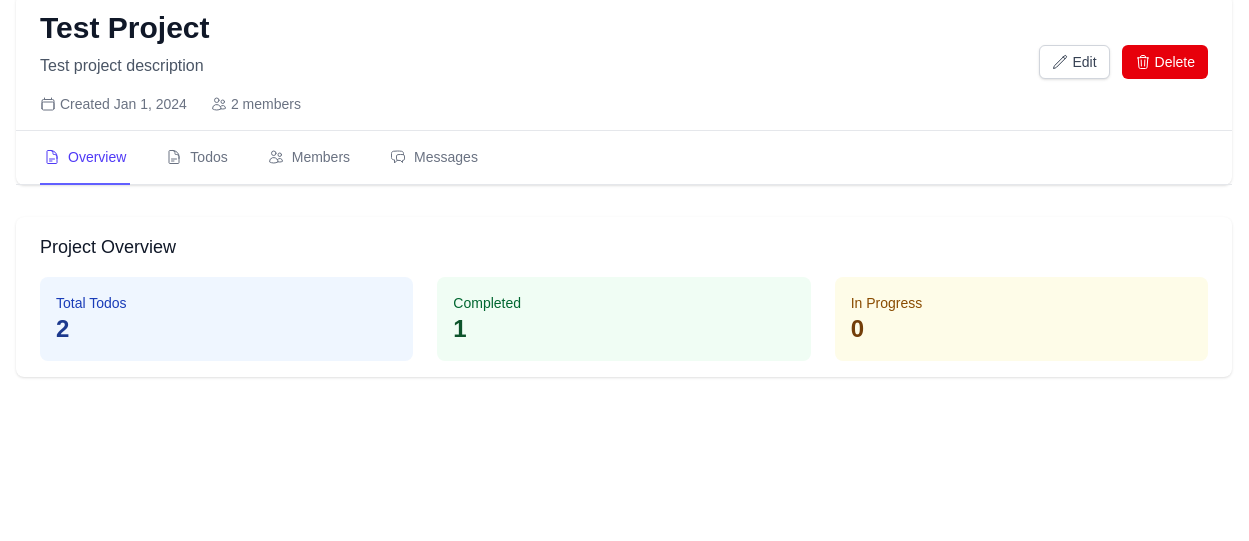
Test: ProjectDetailPage › should switch to todos tab when clicked
Click the button "Todos": (197, 158) [162,131,232,185]
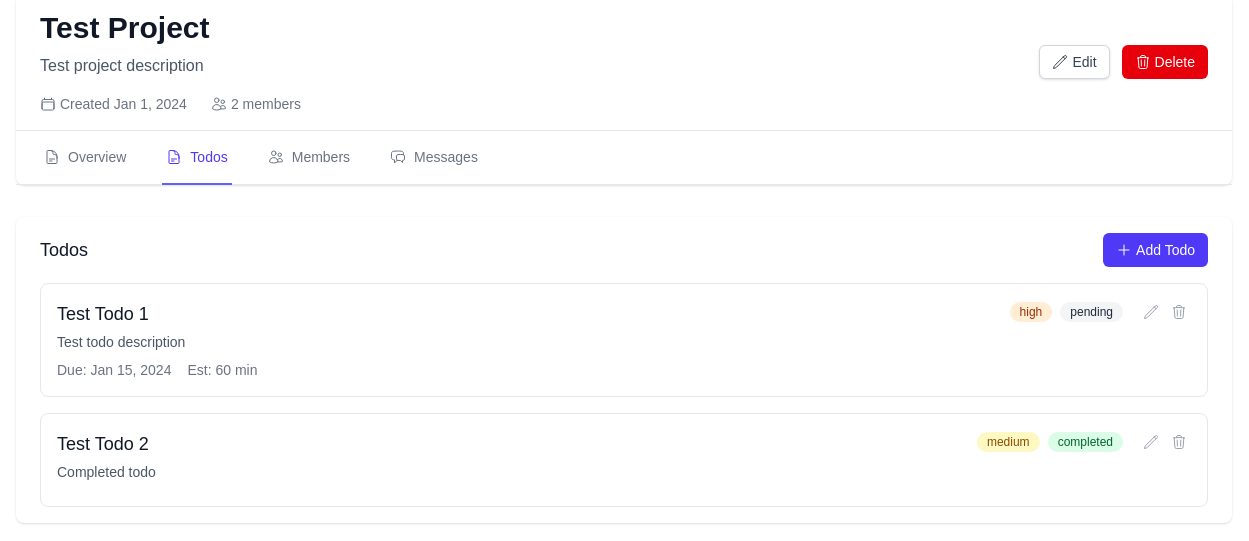
Check: the heading "Test Todo 1" is shown, box [57,304,149,324]
Check: the heading "Test Todo 2" is shown, box [57,434,149,454]
Check: the text "high" is shown, box [1010,302,1052,322]
